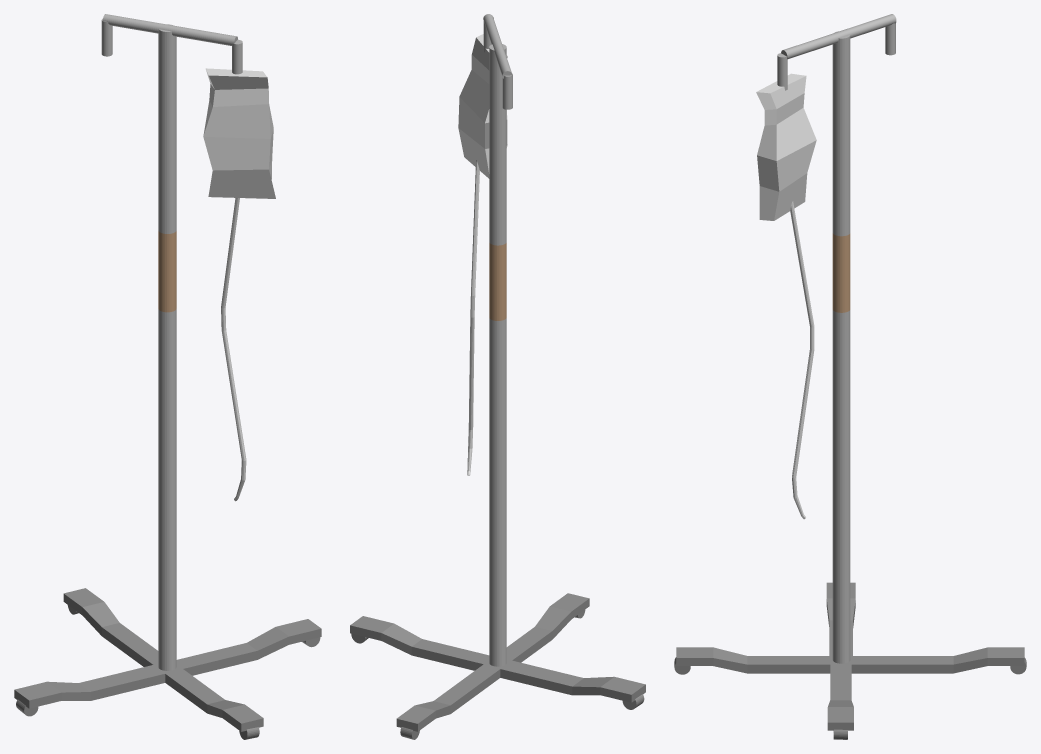
Rendered from med_p 1.fbx.
3 views of the same model, side by side, from view 1: azimuth 30°, elevation 25°; view 2: azimuth 150°, elevation 25°; view 3: azimuth 270°, elevation 25° (orthographic). The views are drawn at different scales.
Visible parts, largest first — view 1: Cylinder, Cube.003, Cube.004, Cube.001, Cube.002, Cube, Cylinder.004, Cylinder.001; view 2: Cylinder, Cube.003, Cube.004, Cube.001, Cube.002, Cube, Cylinder.004, Cylinder.001; view 3: Cylinder, Cube.003, Cube.002, Cube, Cube.001, Cylinder.004, Cylinder.001, Cube.004.
Part boxes in pixels (box(x1,y1,x2,y2)): Cylinder: box(158, 24, 176, 670); Cube.003: box(203, 68, 275, 501); Cube.004: box(14, 665, 165, 716); Cube.001: box(176, 619, 321, 675); Cube.002: box(63, 588, 158, 666); Cube: box(156, 664, 263, 739); Cylinder.004: box(158, 231, 176, 312); Cylinder.001: box(102, 14, 237, 45); Cylinder: box(489, 44, 506, 666); Cube.003: box(458, 34, 507, 475); Cube.004: box(500, 660, 645, 709); Cube.001: box(350, 616, 489, 670); Cube.002: box(396, 664, 501, 739); Cube: box(485, 593, 589, 667); Cylinder.004: box(489, 243, 506, 320); Cylinder.001: box(483, 14, 512, 78); Cylinder: box(832, 31, 850, 663); Cube.003: box(756, 73, 816, 519); Cube.002: box(850, 647, 1026, 674); Cube: box(674, 647, 850, 674); Cube.001: box(827, 664, 853, 739); Cylinder.004: box(832, 233, 850, 312); Cylinder.001: box(781, 14, 896, 59); Cube.004: box(826, 582, 855, 656).
Size of the model in its own units: 324 by 684 by 341.
